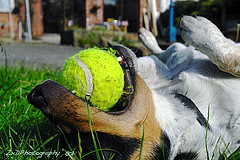tennis ball: (58, 47, 128, 113)
